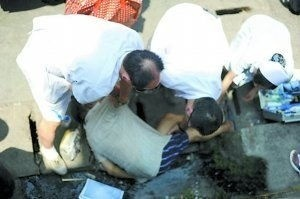falling: (62, 81, 235, 199)
